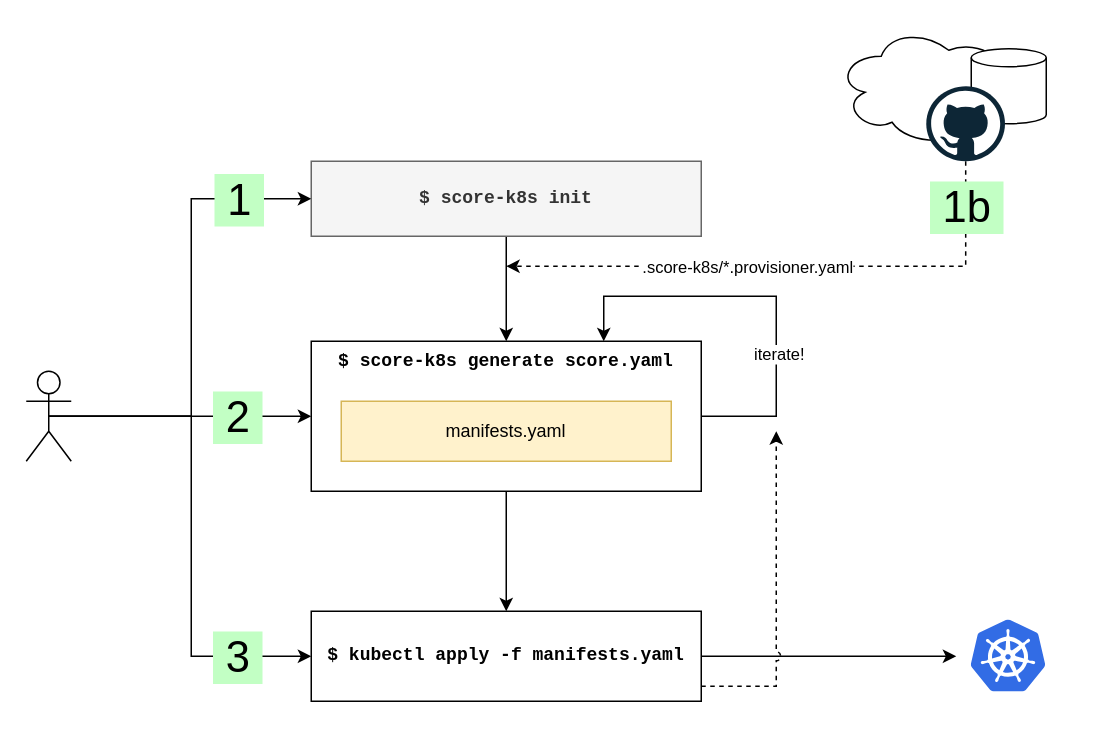
The diagram is 1112 pixels wide and 750 high, and some of its shapes have lost their labels. The shapes that lost their labels are listed below. From the top down, each one's centre as x and y in pixels, then its label:
At (x=48, y=415): "Actor".
At (x=1008, y=656): "Kubernetes Cluster".
